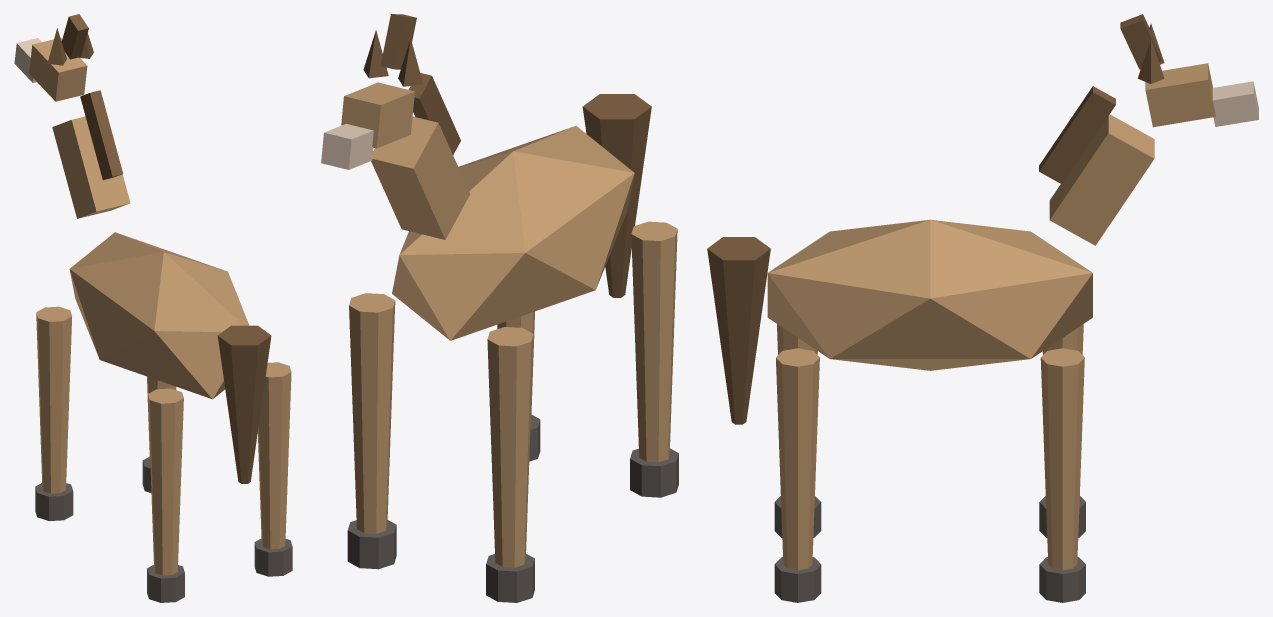
The model's file is horse.glb.
3 renders of one model, left to right at view 1: azimuth 30°, elevation 25°; view 2: azimuth 150°, elevation 25°; view 3: azimuth 270°, elevation 25°, orthographic. The views are drawn at different scales.
Parts seen in each view (by area): view 1: HorseBody; view 2: HorseBody; view 3: HorseBody.
Part boxes in pixels (left/top/right/bottom): HorseBody: left=14, top=14, right=292, bottom=602; HorseBody: left=321, top=14, right=678, bottom=602; HorseBody: left=707, top=14, right=1258, bottom=602.
Size of the model in its own units: 0.79 by 2.45 by 2.25.
